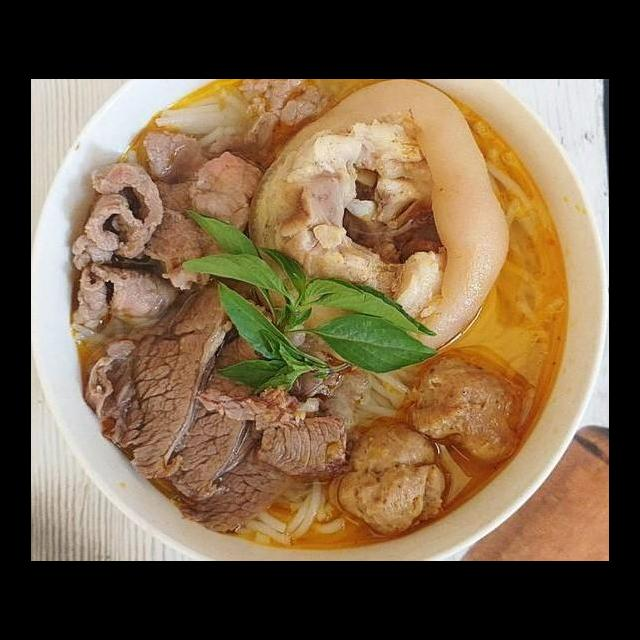bun: (38, 244, 138, 358), (170, 320, 284, 416), (513, 171, 609, 269)
bun bo: (46, 103, 609, 561)
thit bo: (121, 117, 380, 276), (122, 211, 326, 350), (92, 178, 332, 288), (348, 158, 554, 276), (53, 188, 188, 310), (366, 106, 513, 194), (279, 106, 402, 206), (513, 251, 609, 335)
